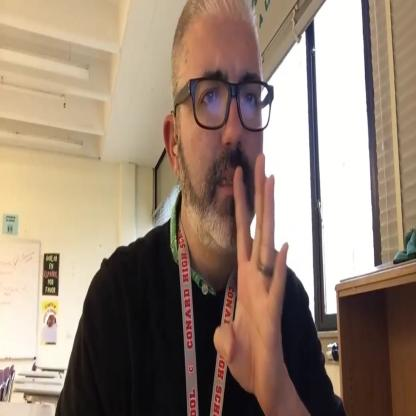Talk: (157, 0, 297, 416)
